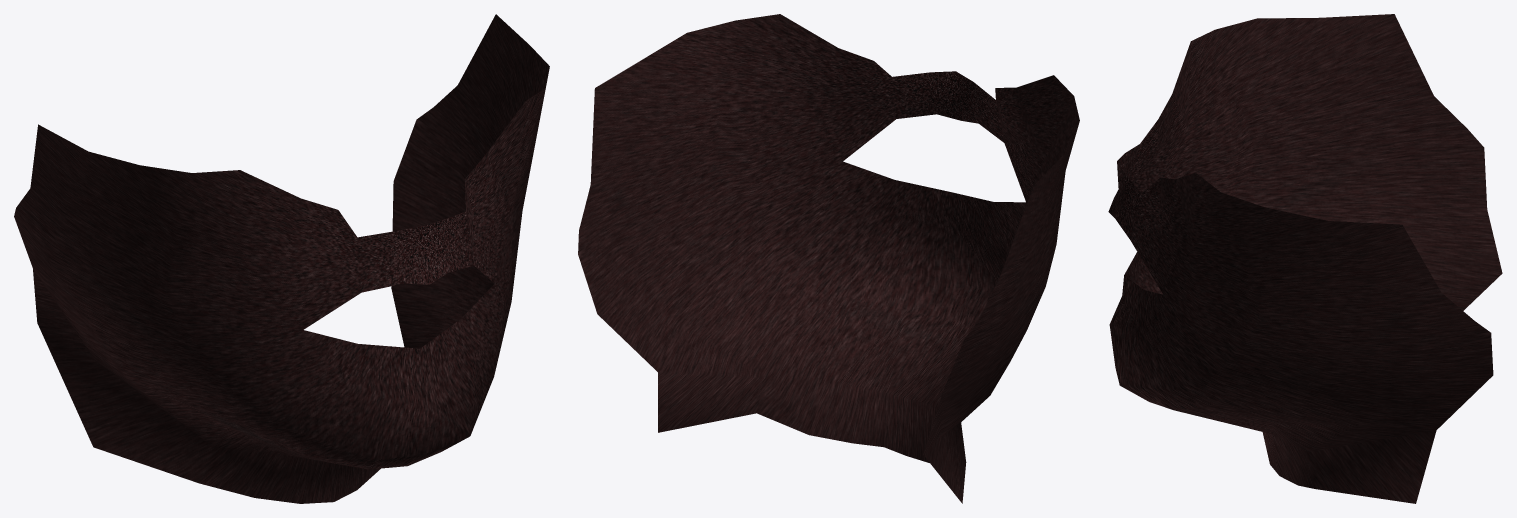
File: BeardModel.FBX
The picture shows the model from 3 angles, left to right: view 1: azimuth 30°, elevation 25°; view 2: azimuth 150°, elevation 25°; view 3: azimuth 270°, elevation 25°; orthographic projection. The views are drawn at different scales.
Visible parts, largest first — view 1: beard; view 2: beard; view 3: beard.
Part boxes in pixels (x1,y1,x2,y2): beard: [14, 14, 549, 503]; beard: [578, 14, 1079, 503]; beard: [1108, 14, 1502, 503].
Size of the model in its own units: 14.45 by 11.87 by 11.71.
